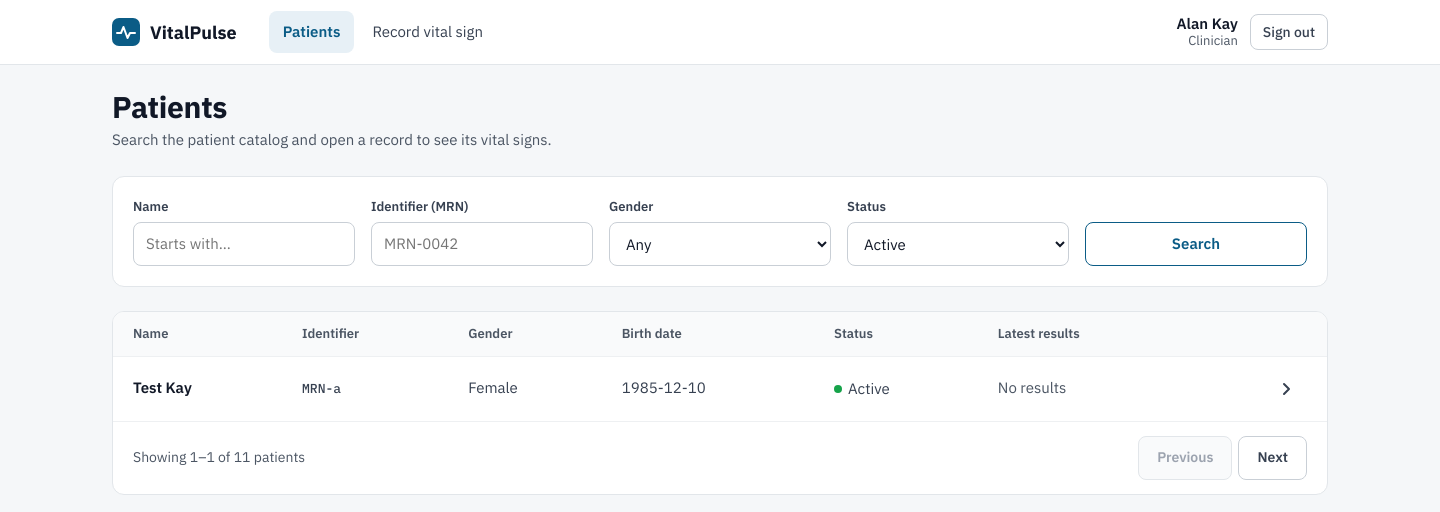
Scenario: Patients page › searches with FHIR parameters and pages with the Bundle links
Expected: the link "Test Kay" is shown, [133,378,192,397]
Type "k" into the search field labelled "Name" at (244, 244), box [133,222,355,266]
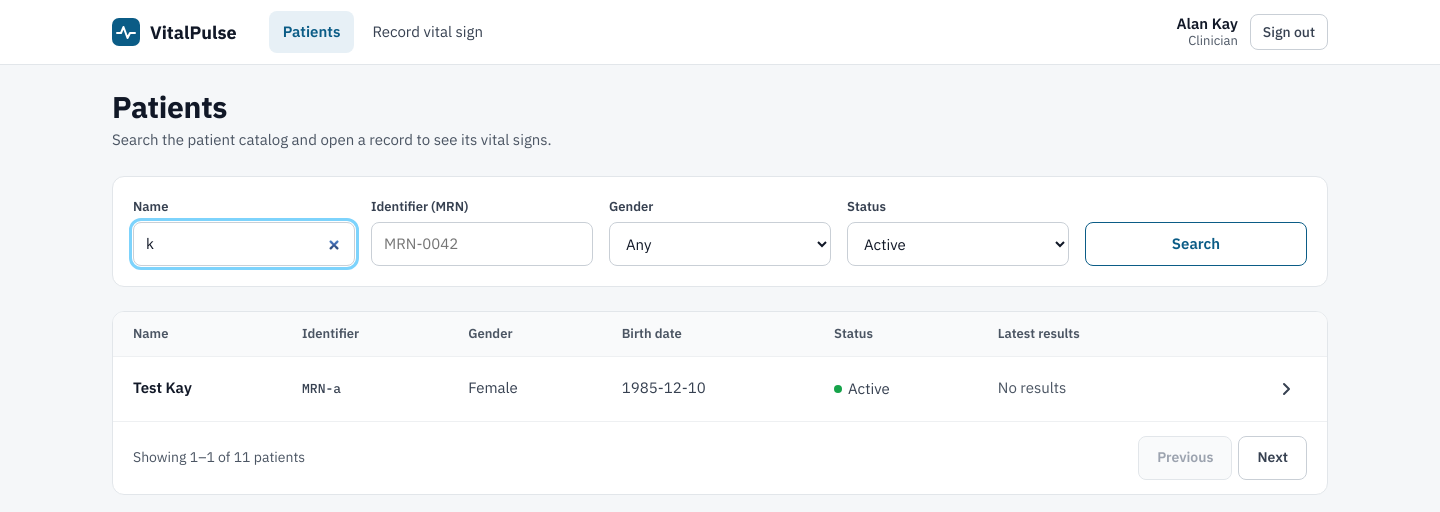
Select "Female" in the dropdown labelled "Gender" at (720, 244), box [609,222,831,266]
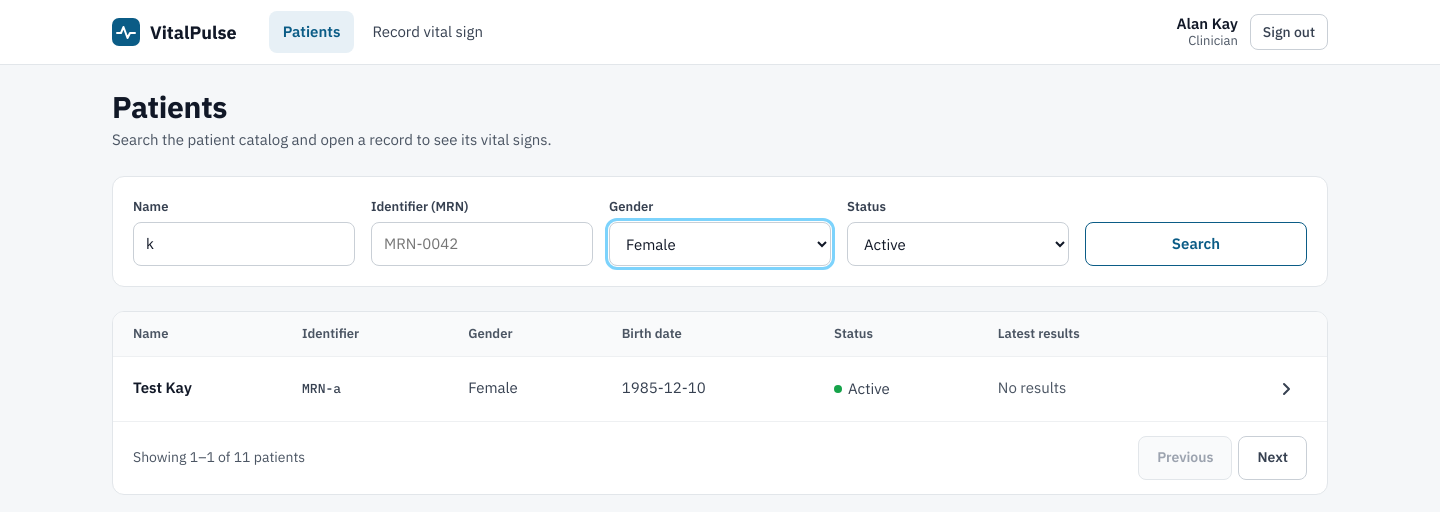
Click the button "Search" at (1196, 244), box [1085,222,1307,266]
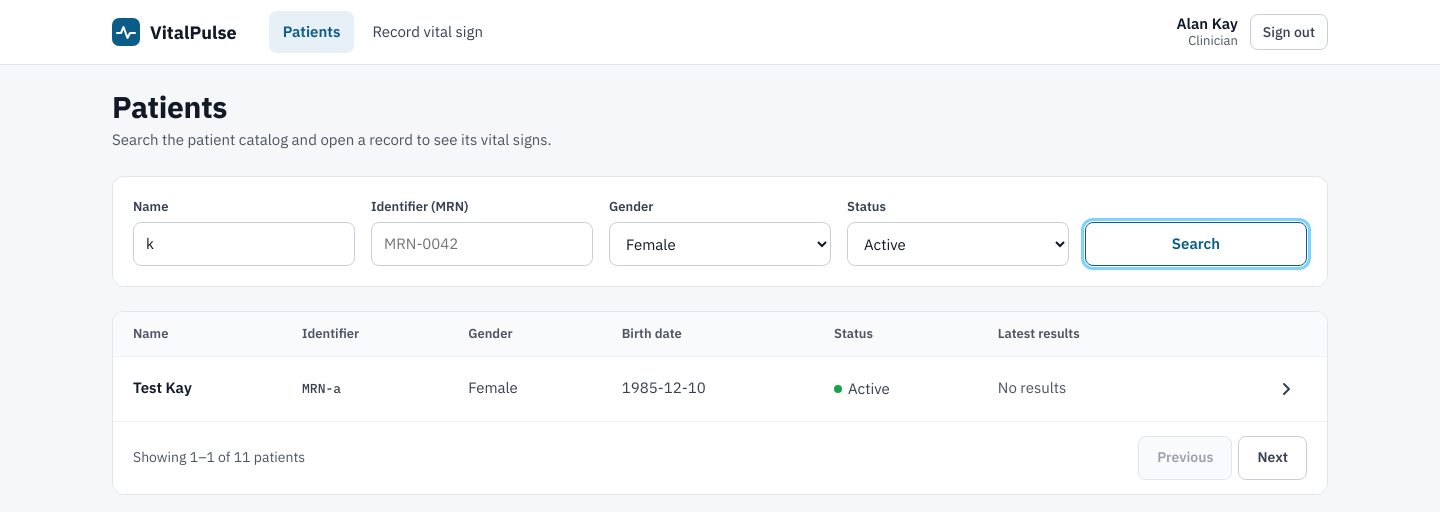
Click the button "Next" at (1273, 458), box [1238,436,1307,480]
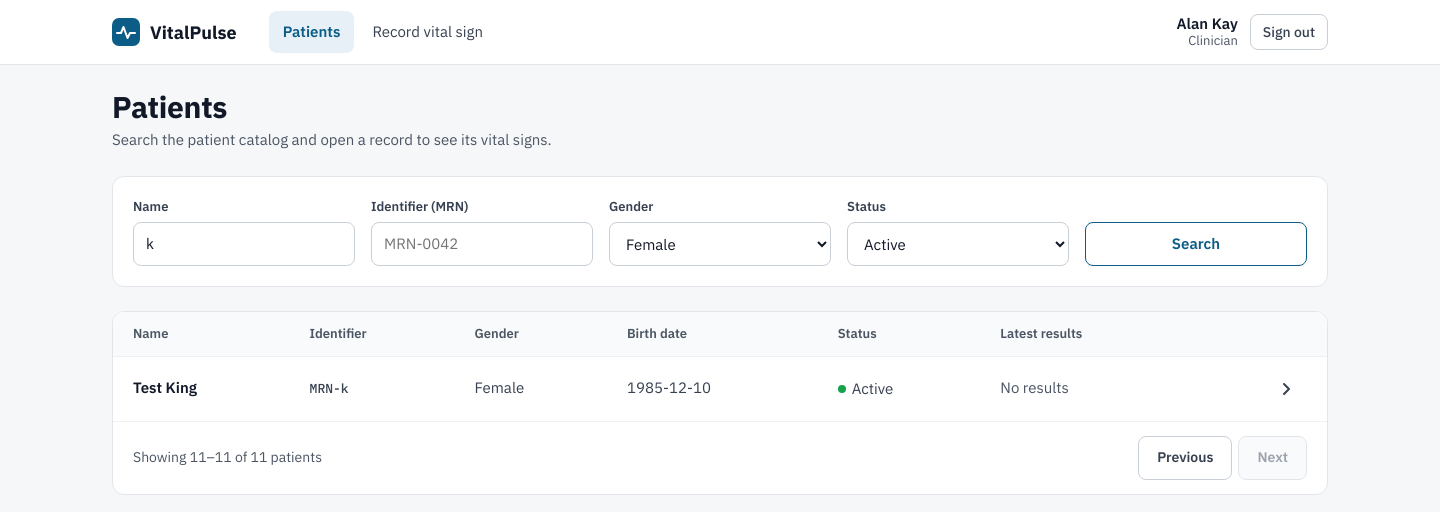
Now the link "Test King" is shown, box [133,378,197,397]
Now the text "Showing 11–11 of 11 patients" is shown, box [133,447,322,468]
